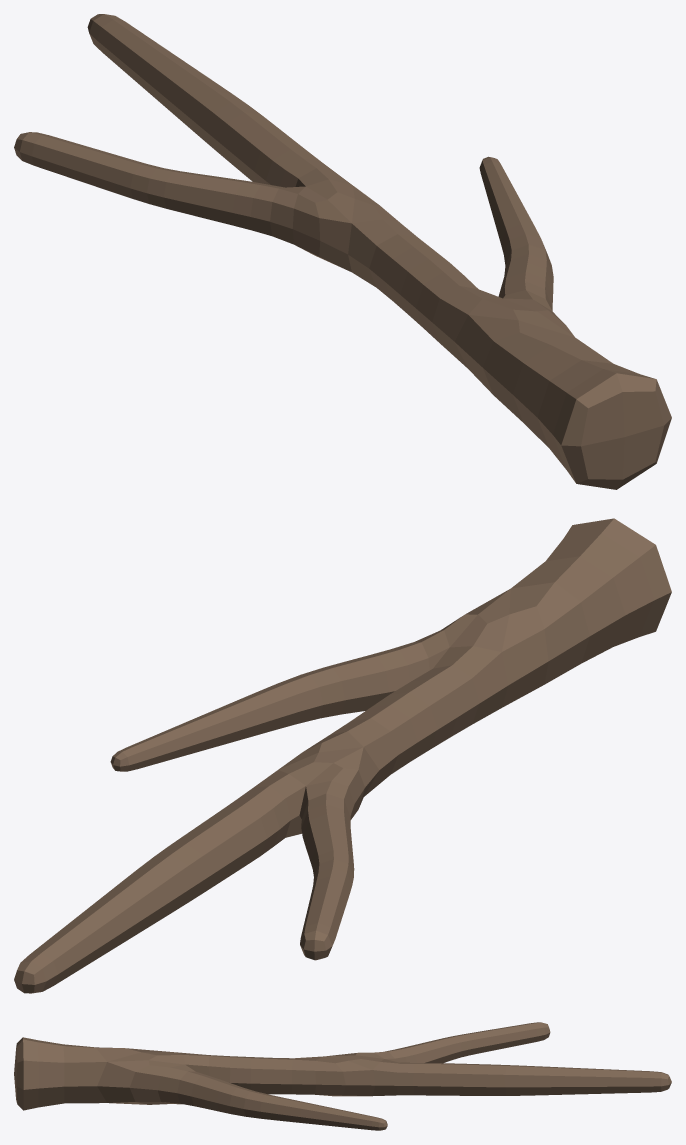
File: branch_01.fbx
The picture shows the model from 3 angles, top to bottom: view 1: azimuth 30°, elevation 25°; view 2: azimuth 150°, elevation 25°; view 3: azimuth 270°, elevation 25°; orthographic projection. The views are drawn at different scales.
Parts seen in each view (by area): view 1: branch_01; view 2: branch_01; view 3: branch_01.
Part boxes in pixels (box(x1,y1,x2,y2)): branch_01: box(14, 14, 671, 489); branch_01: box(14, 518, 671, 993); branch_01: box(14, 1022, 671, 1130).
Size of the model in its own units: 23.71 by 7.64 by 66.02.
